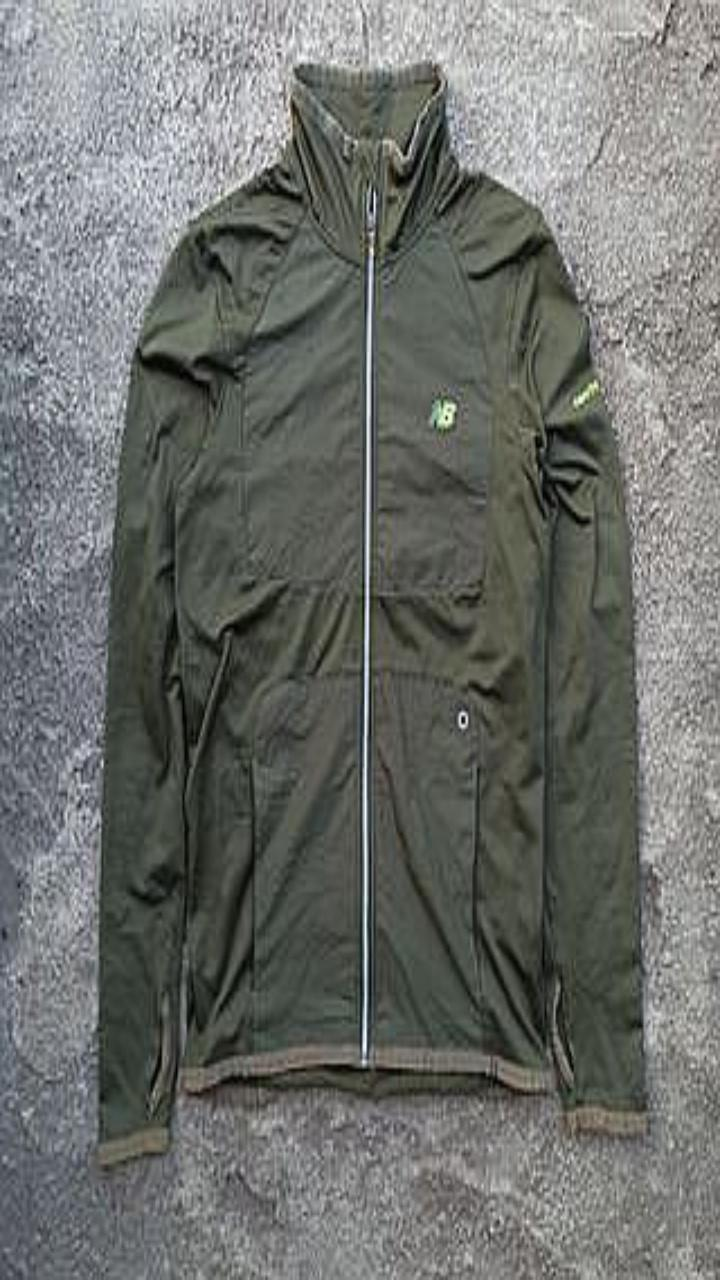Sports_Jacket: (96, 60, 647, 1165)
